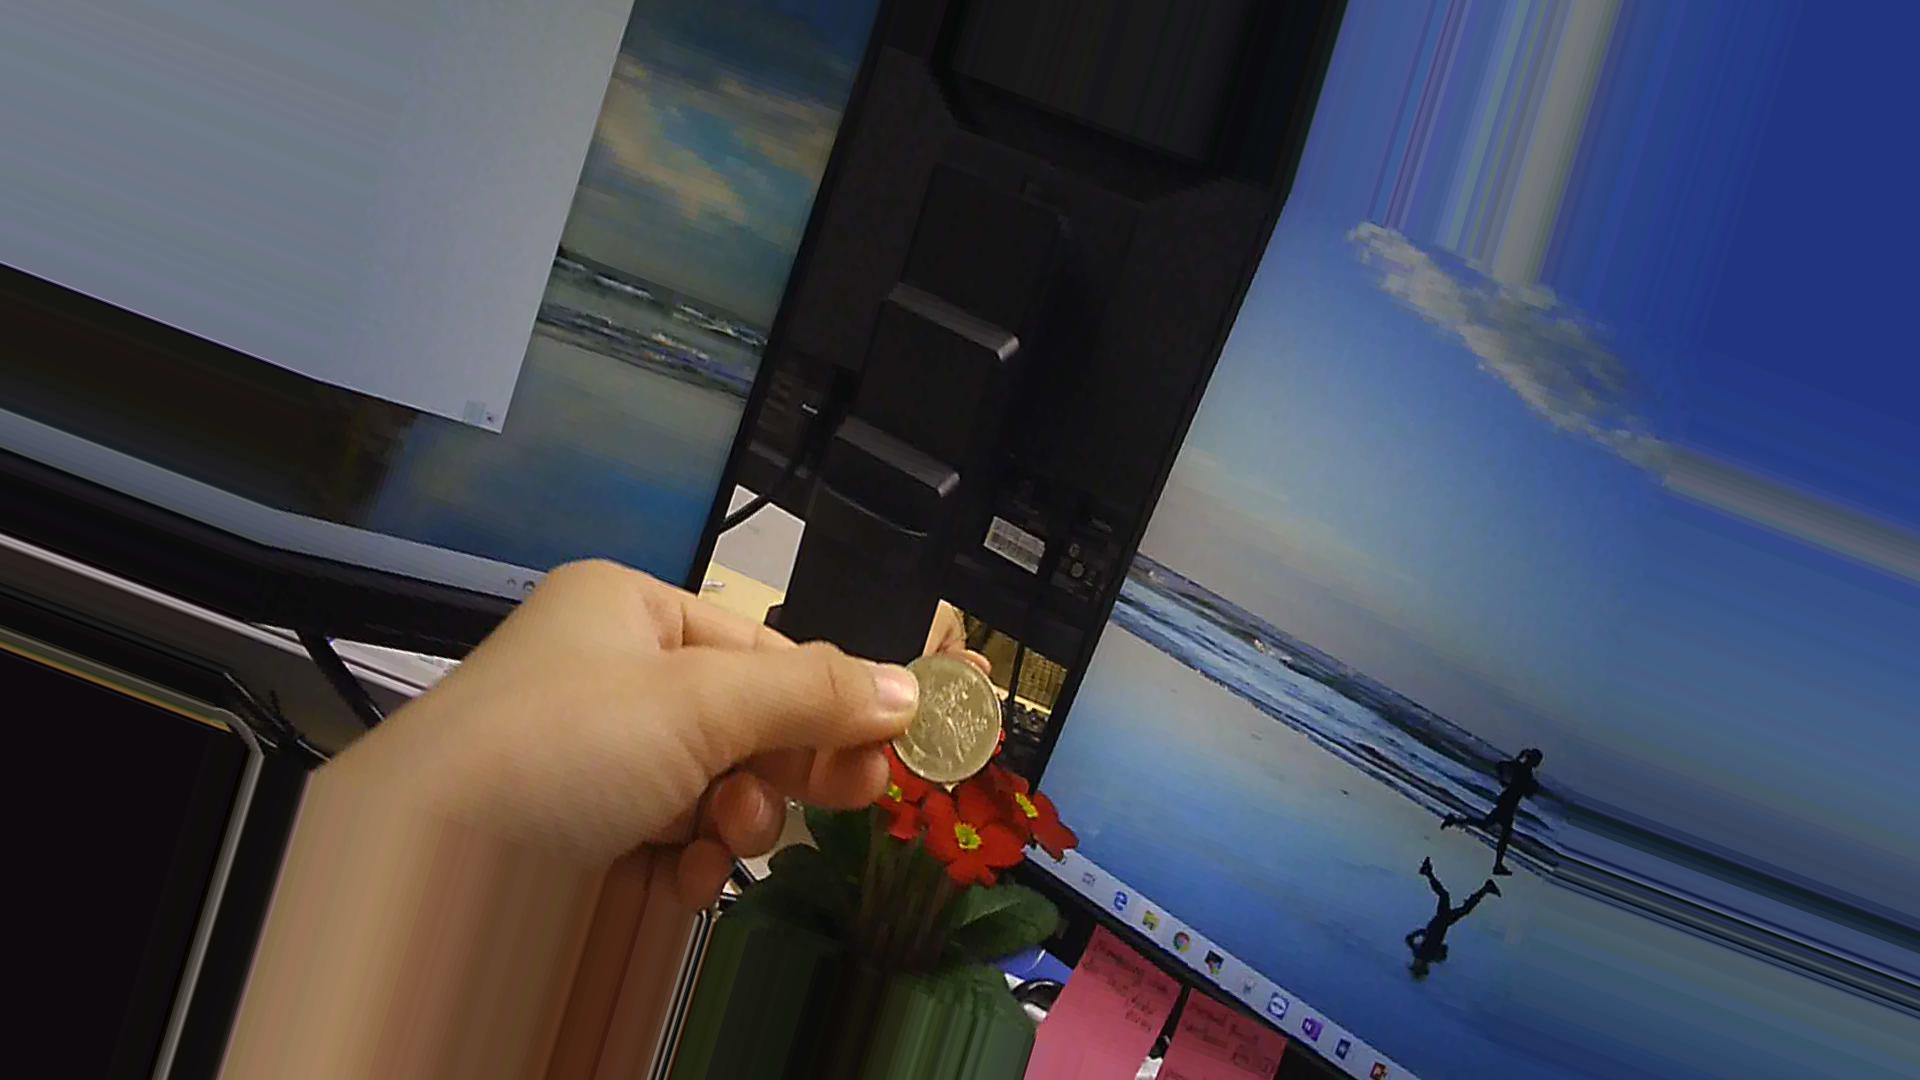500 Yen: (876, 655, 1007, 783)
